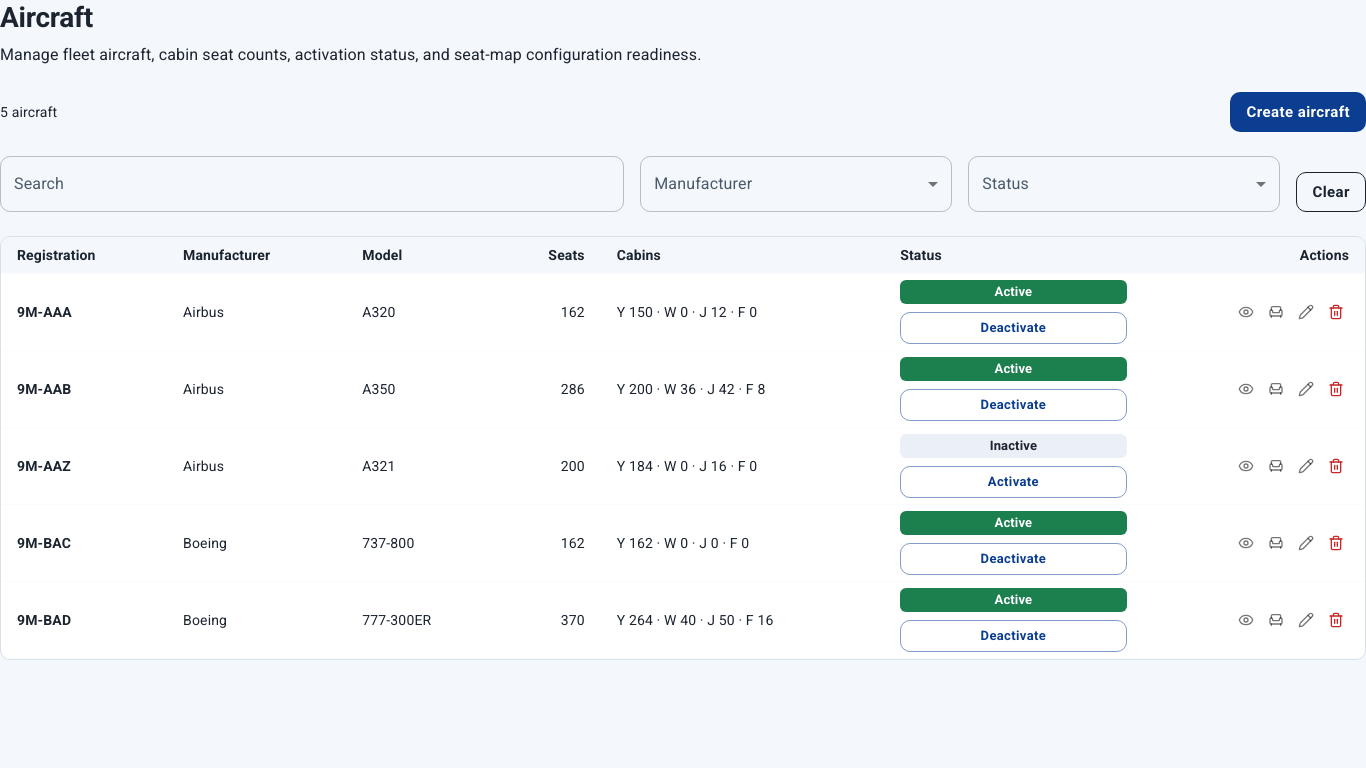
AdminAircraftPage › deletes an aircraft with confirmation
Check: the text "9M-AAA" is shown, box [17,304,72,320]
Click the button named "Delete 9M-AAA".
click(1336, 312)  # box [1323,299,1349,325]
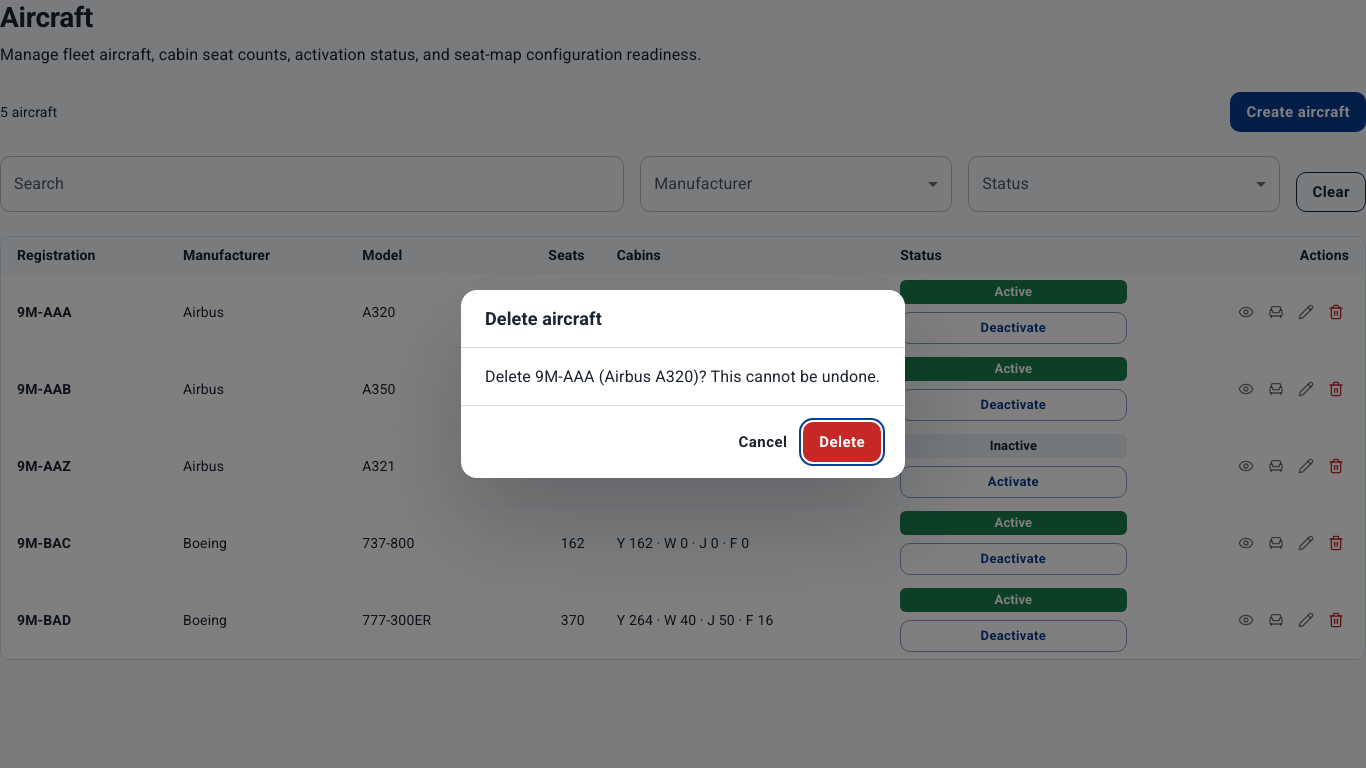
Click the button "Delete".
click(842, 442)  # box [803,422,881,462]
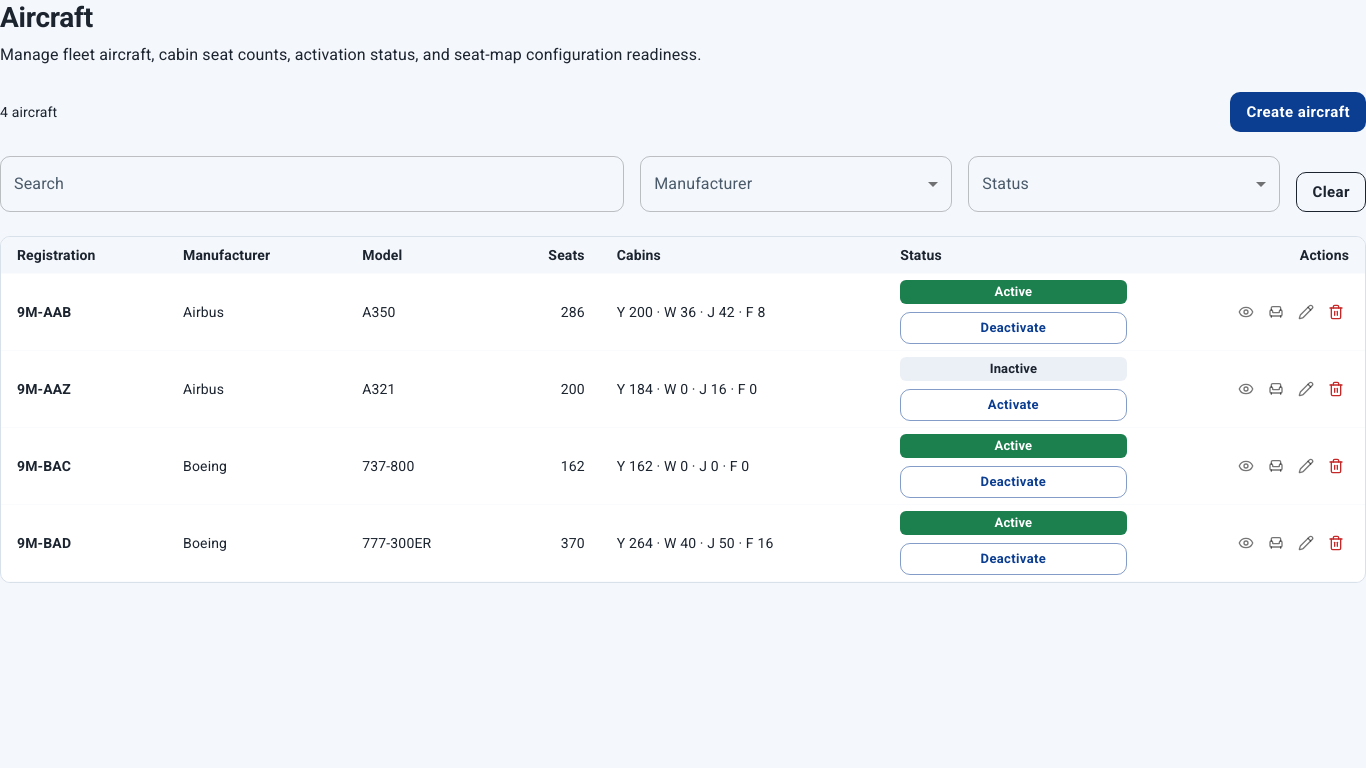
Check: the text "9M-AAA" is gone
